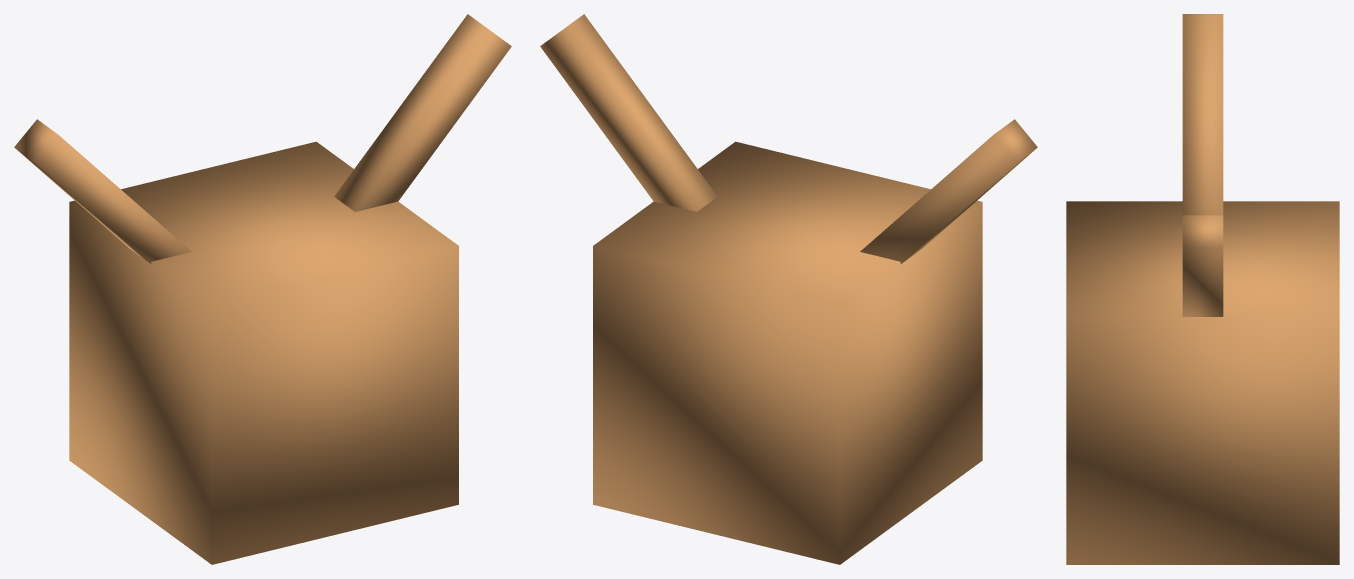
The model's file is StrongEnemy.obj.
3 renders of one model, left to right at view 1: azimuth 30°, elevation 25°; view 2: azimuth 150°, elevation 25°; view 3: azimuth 270°, elevation 25°, orthographic. The views are drawn at different scales.
Parts seen in each view (by area): view 1: 立方体.004; view 2: 立方体.004; view 3: 立方体.004.
Boxes of the visible parts, x1,y1,x2,y2 form: 立方体.004: (14,14,511,564); 立方体.004: (540,14,1037,564); 立方体.004: (1066,14,1339,564).
Bounding box in the file's own units: 3.86 × 3.16 × 2.
1 material, 1 textured.
